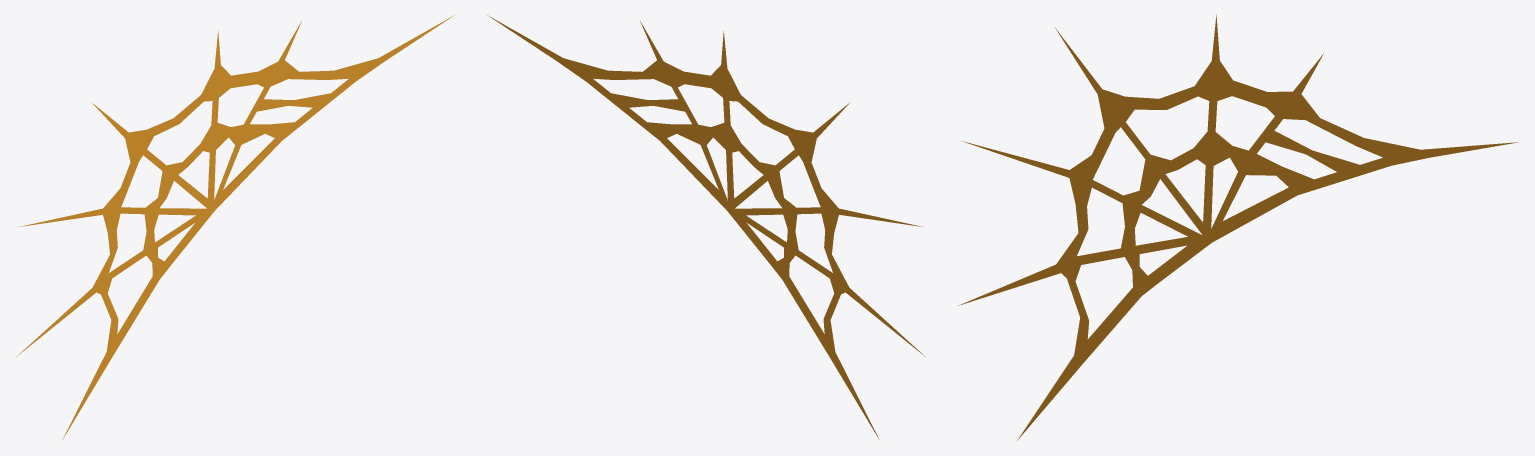
File: SM_Spiderweb_C.fbx
The picture shows the model from 3 angles, left to right: view 1: azimuth 30°, elevation 25°; view 2: azimuth 150°, elevation 25°; view 3: azimuth 330°, elevation 25°; orthographic projection. The views are drawn at different scales.
Parts seen in each view (by area): view 1: SM_Spiderweb_C; view 2: SM_Spiderweb_C; view 3: SM_Spiderweb_C.
Part boxes in pixels (<box>): SM_Spiderweb_C: <box>16,15,454,439</box>; SM_Spiderweb_C: <box>487,15,925,439</box>; SM_Spiderweb_C: <box>958,14,1517,440</box>.
Size of the model in its own units: 1.31 by 1.06 by 2.44e-07.
